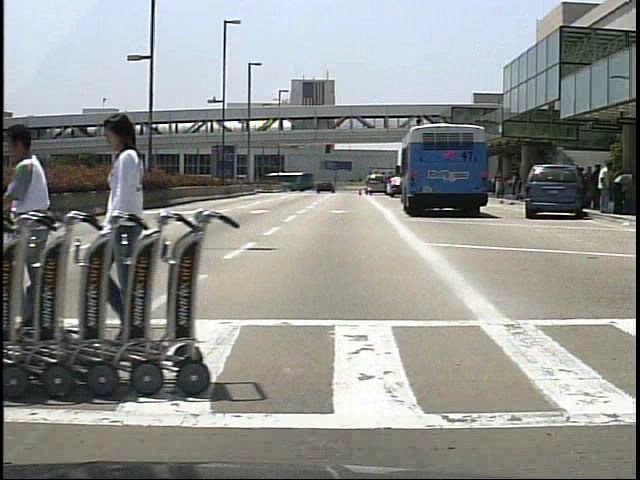person: (91, 109, 183, 352), (4, 121, 80, 340), (598, 160, 619, 214), (589, 163, 606, 216)
